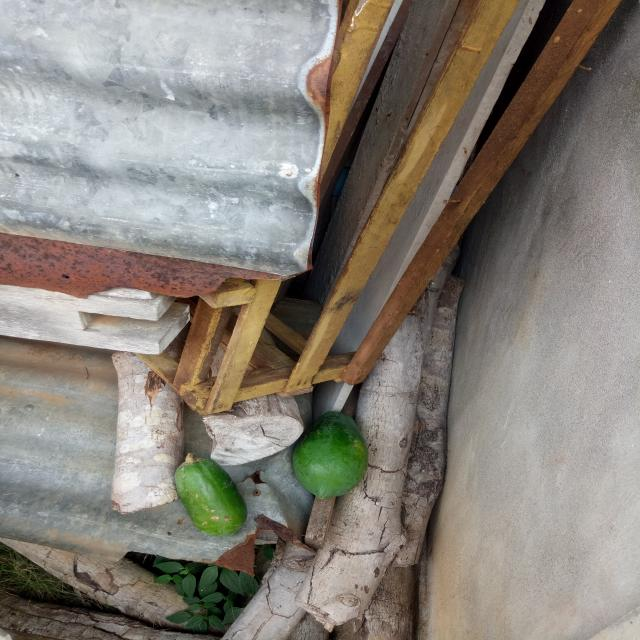Pepaya unrippen: (291, 409, 369, 500), (165, 454, 249, 538)
